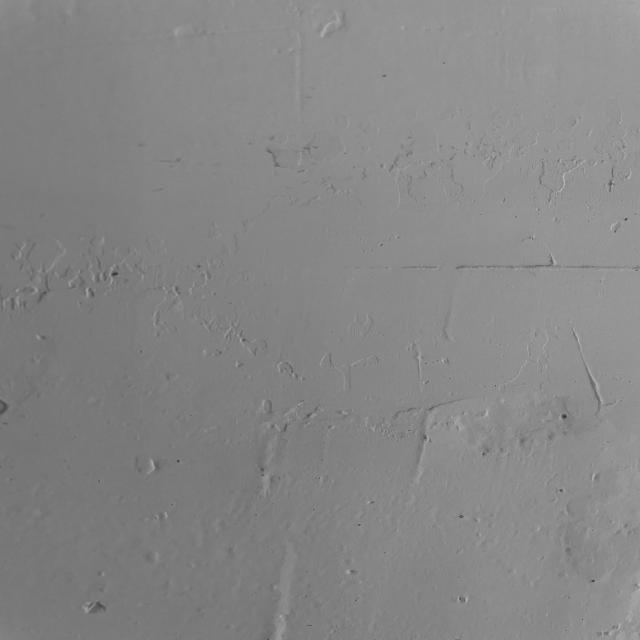rough and patchy surface: (18, 11, 640, 640)
